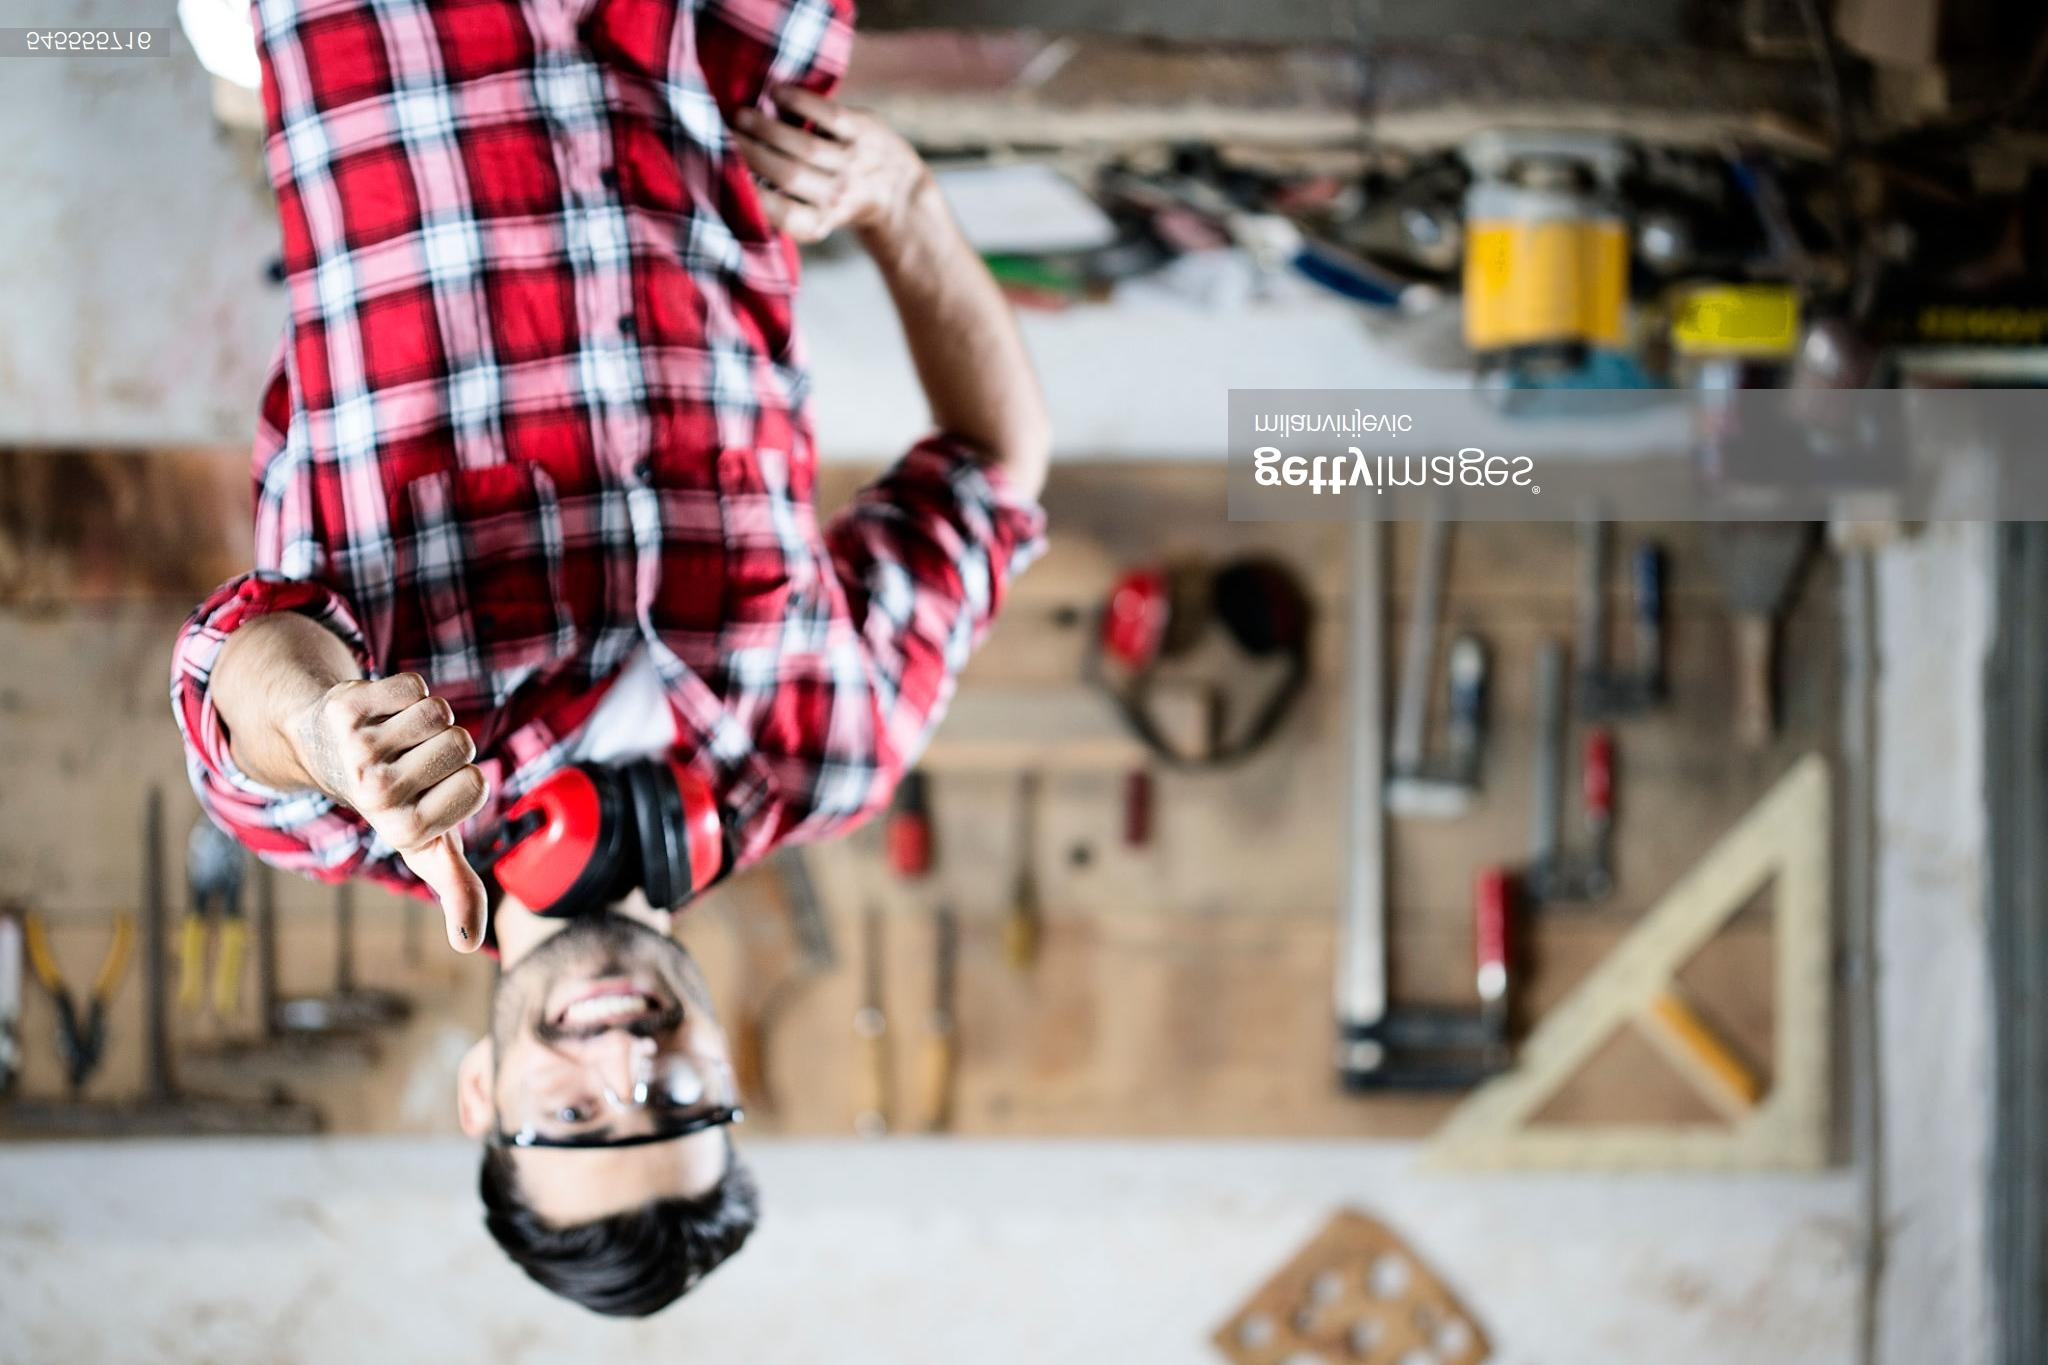thumbsdown: (332, 670, 487, 954)
